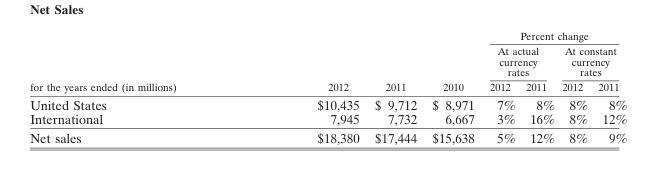table: (29, 28, 626, 145)
table column: (29, 28, 246, 145), (246, 28, 366, 145), (423, 28, 481, 145), (366, 28, 423, 145), (481, 28, 520, 145), (520, 28, 557, 145), (557, 28, 592, 145), (592, 28, 626, 145)
table column header: (29, 28, 626, 94)
table row: (29, 42, 626, 79), (29, 127, 626, 145), (29, 94, 626, 111), (29, 111, 626, 127), (29, 79, 626, 94), (29, 28, 626, 42)
table spanning cell: (29, 28, 246, 94), (246, 28, 366, 94), (423, 28, 481, 94), (366, 28, 423, 94), (481, 42, 557, 79), (557, 42, 626, 79), (481, 28, 626, 42)
